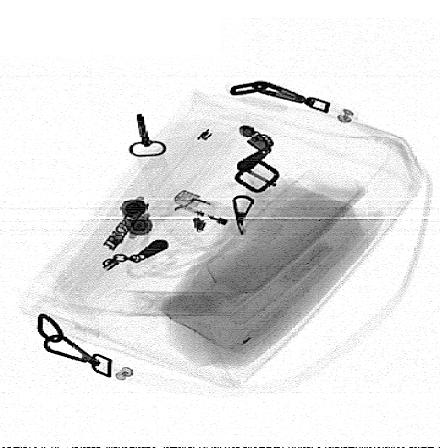Lighter: (171, 190, 282, 247)
